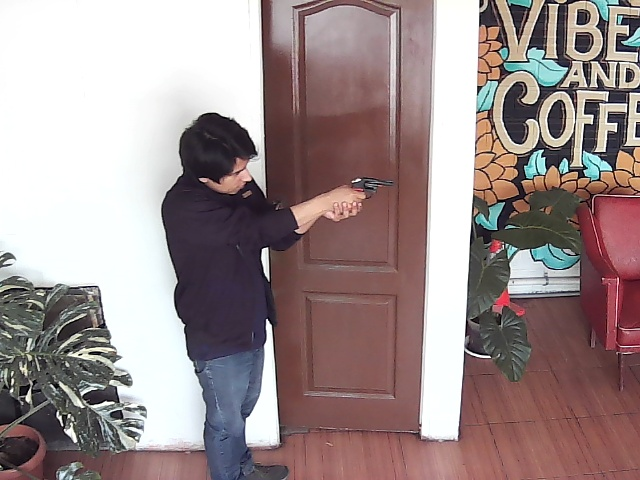pistola: (340, 169, 400, 207)
